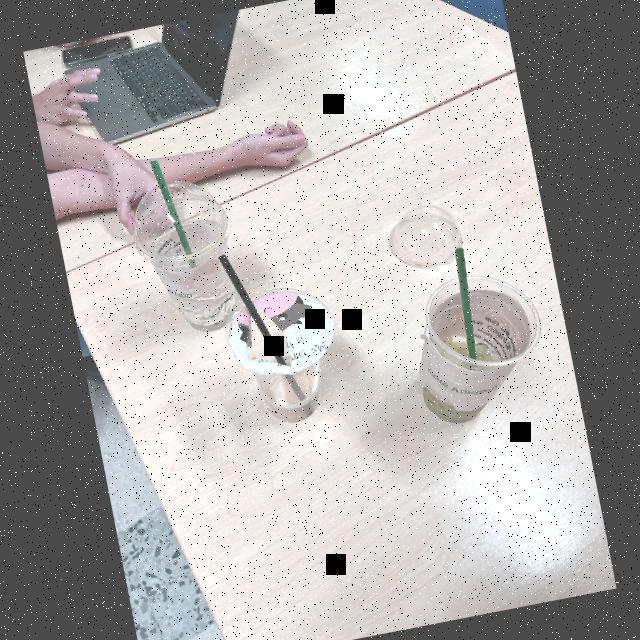plastic_cup: (391, 261, 558, 437), (127, 174, 252, 350), (220, 282, 354, 434)
plastic_cup_lid: (124, 172, 243, 270), (377, 199, 469, 275)
straw: (209, 243, 312, 414), (144, 145, 202, 277), (440, 248, 490, 370)
